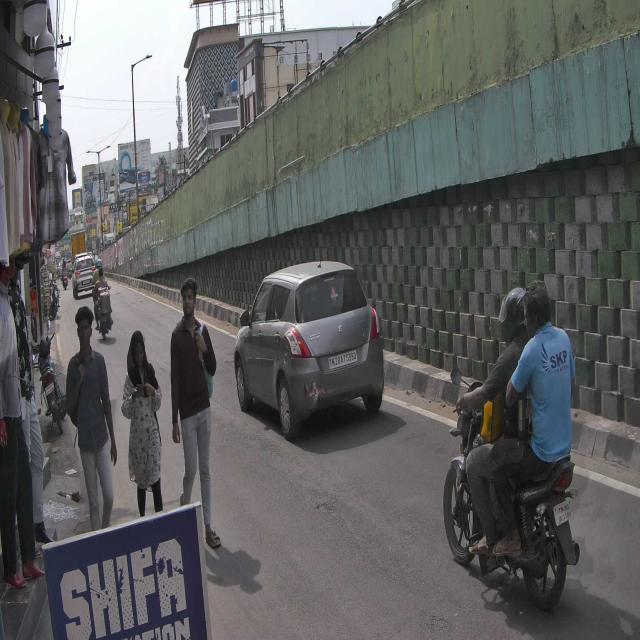double_rider: (444, 280, 582, 609)
